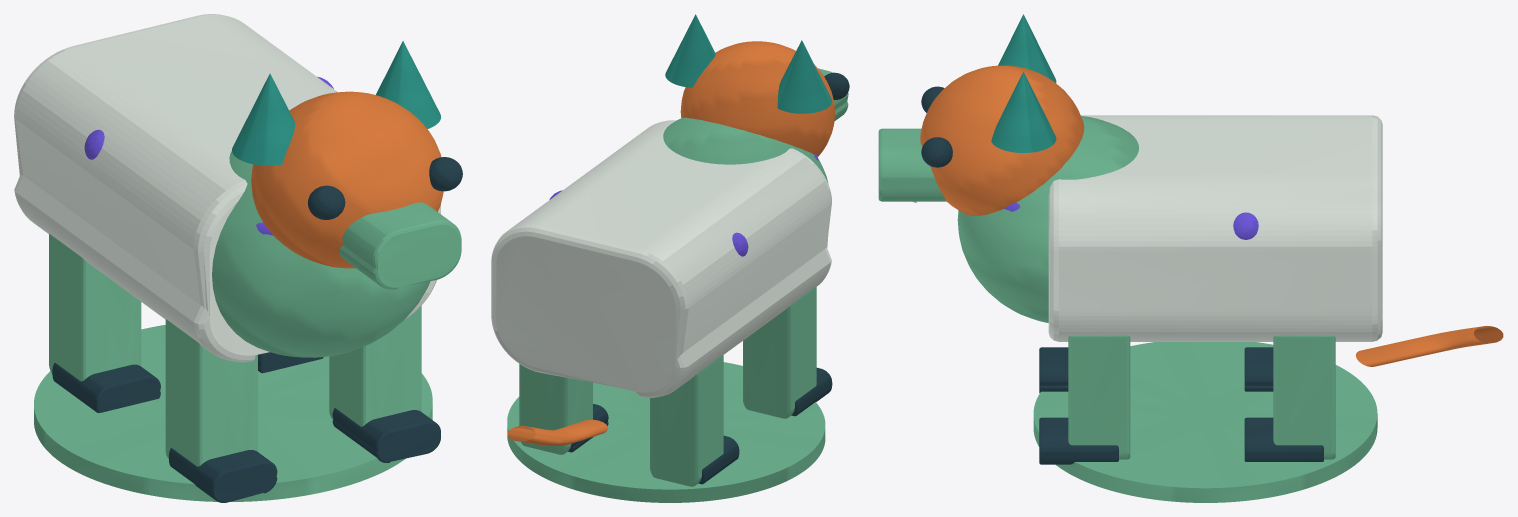
File: 0155_恐龙图鉴_重爪龙.glb
The picture shows the model from 3 angles, left to right: view 1: azimuth 30°, elevation 25°; view 2: azimuth 150°, elevation 25°; view 3: azimuth 270°, elevation 25°; orthographic projection. The views are drawn at different scales.
Visible parts, largest first — view 1: card_0155; view 2: card_0155; view 3: card_0155.
Boxes of the visible parts, x1=… form: card_0155: x1=14, y1=14, x2=462, y2=502; card_0155: x1=491, y1=14, x2=849, y2=502; card_0155: x1=878, y1=14, x2=1503, y2=502.
Size of the model in its own units: 0.8313 by 1 by 1.47.
